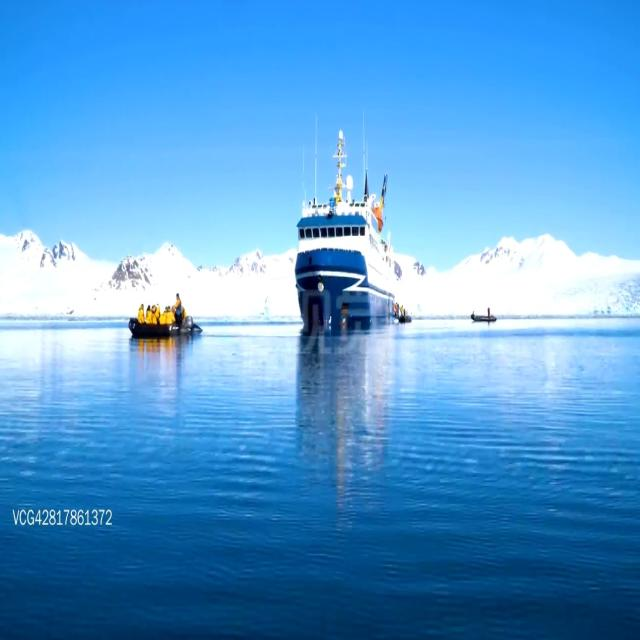houseboat: (123, 287, 198, 337), (470, 303, 498, 323), (398, 308, 412, 328)
passenger ship: (292, 129, 396, 328)
